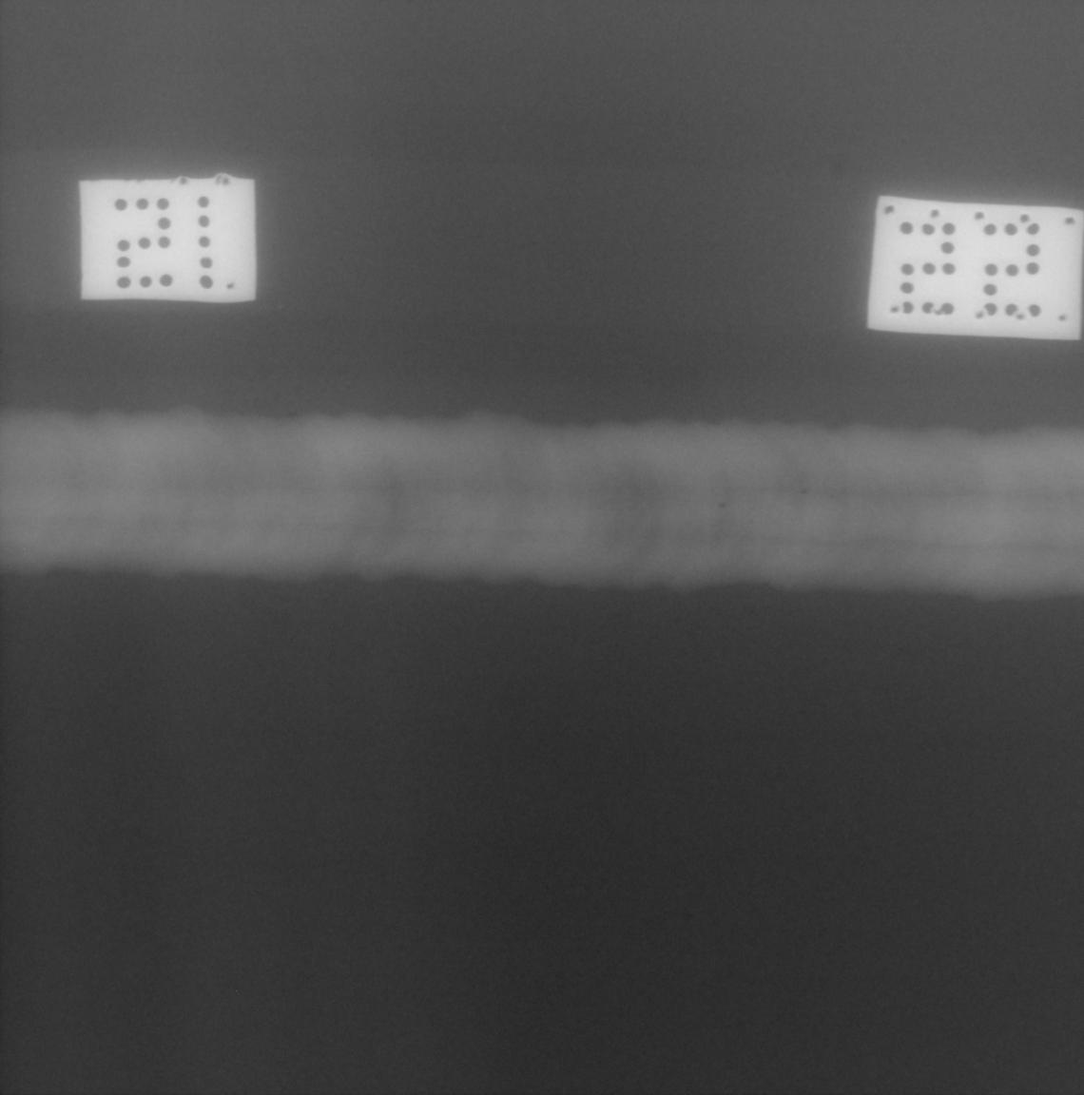Pore/Porosity: (719, 503, 725, 508), (801, 490, 808, 494), (598, 507, 601, 510), (589, 488, 591, 492)
